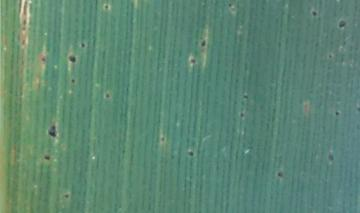tarspot: (43, 120, 63, 140), (324, 147, 336, 165), (335, 17, 348, 32), (65, 52, 81, 64), (273, 168, 286, 180), (197, 38, 209, 50), (100, 1, 112, 12), (102, 90, 115, 100), (185, 148, 197, 158), (309, 7, 319, 19), (61, 191, 72, 201), (68, 75, 78, 86), (237, 111, 248, 121), (187, 56, 199, 65), (78, 40, 88, 50), (159, 134, 169, 144), (240, 91, 250, 101), (324, 51, 335, 60), (42, 153, 51, 163), (332, 108, 341, 118), (40, 55, 48, 64), (226, 1, 233, 9)
